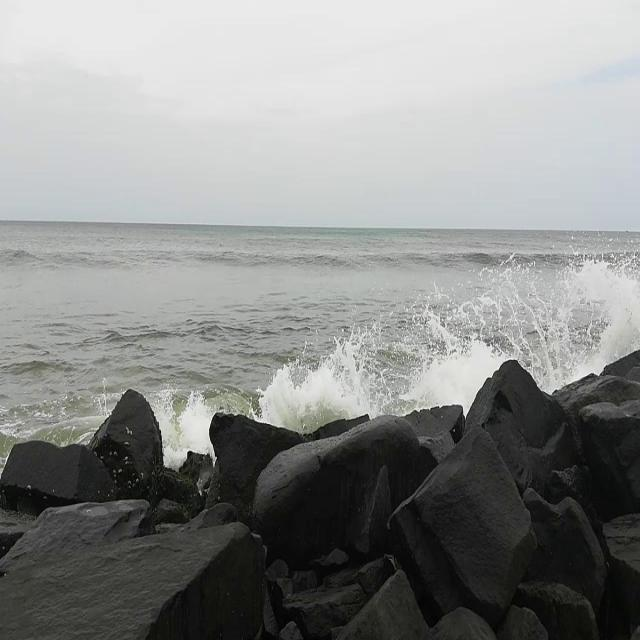other: (397, 264, 627, 374)
